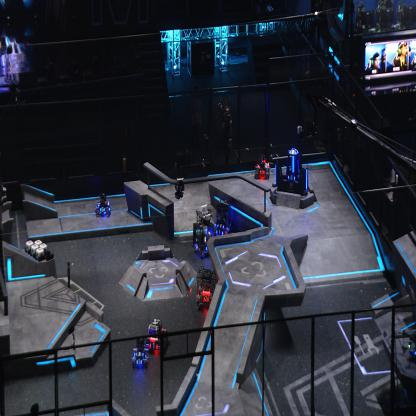car: (191, 208, 216, 258), (195, 262, 220, 309), (211, 199, 234, 243), (146, 318, 170, 354), (131, 338, 149, 368), (254, 152, 271, 180), (95, 191, 111, 217)
